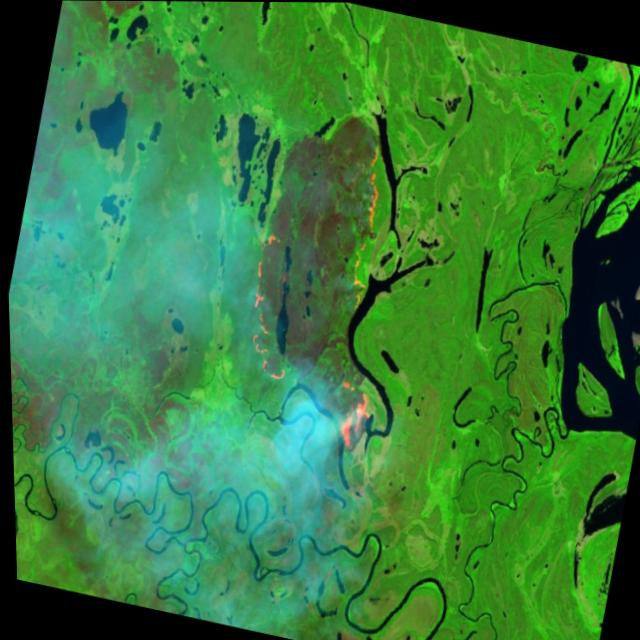fire: (222, 224, 317, 396), (327, 137, 401, 317), (320, 369, 375, 462)
